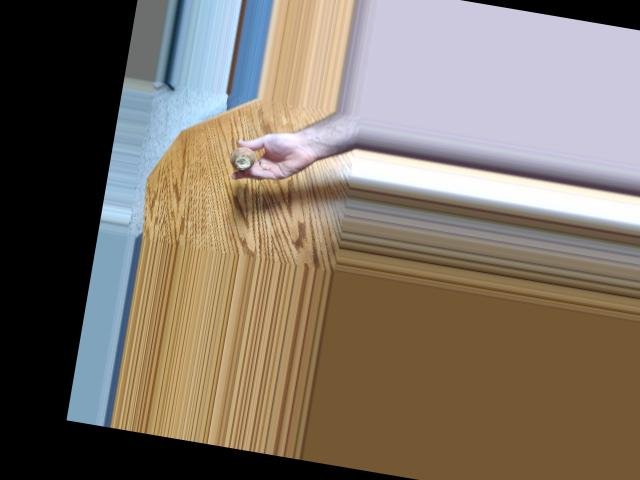sweet_potato: (228, 141, 254, 171)
